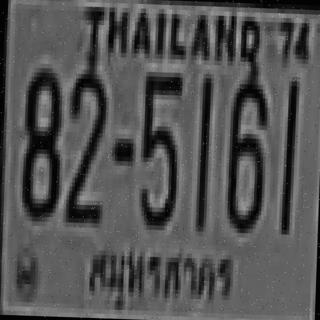N01: (194, 71, 212, 229), (280, 79, 298, 232)
N02: (64, 62, 106, 221)
N05: (137, 67, 182, 226)
N06: (224, 75, 266, 229)
N08: (18, 63, 61, 217)
P58: (82, 236, 238, 320)
